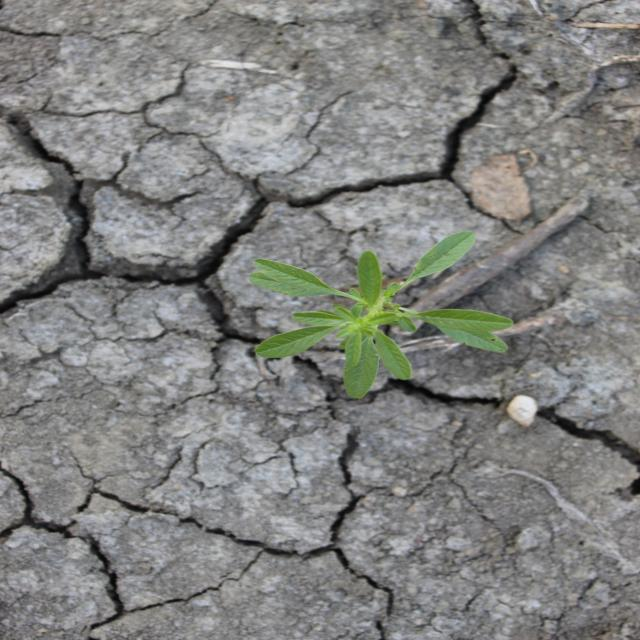Waterhemp: (246, 230, 517, 401)
